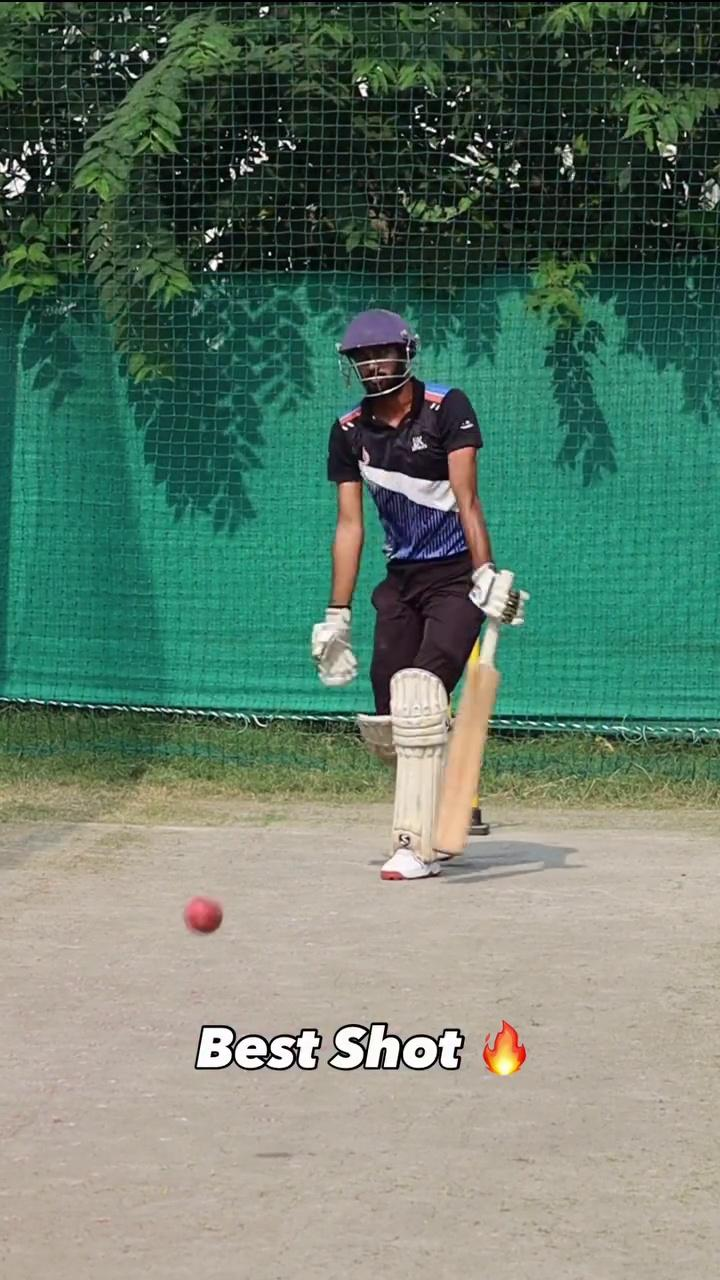bat: (428, 660, 504, 860)
